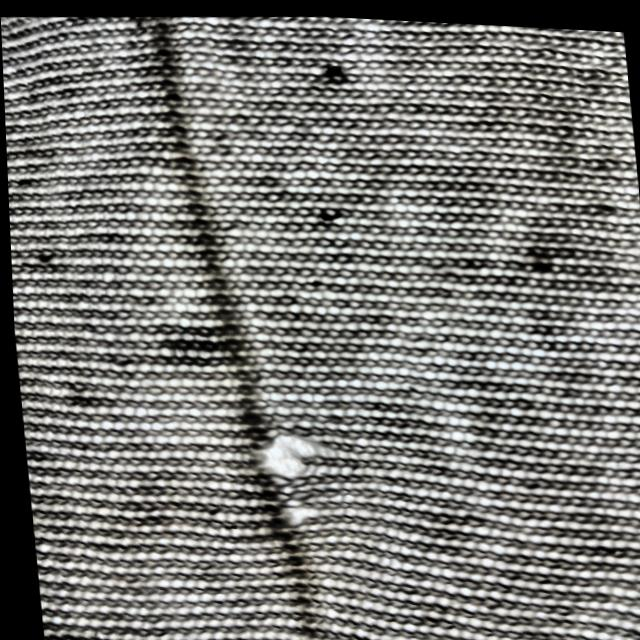Hole: (157, 313, 233, 381), (251, 421, 326, 488), (265, 490, 318, 529)
